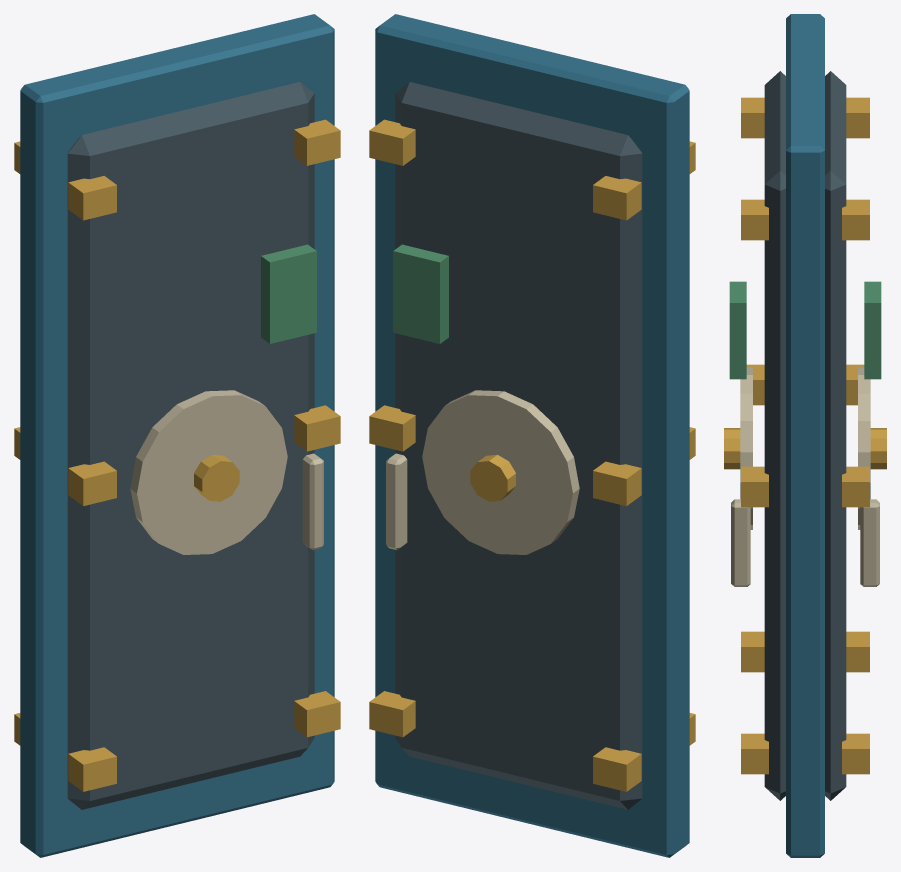
File: door_vault.glb
3 renders of one model, left to right at view 1: azimuth 30°, elevation 25°; view 2: azimuth 150°, elevation 25°; view 3: azimuth 270°, elevation 25°, orthographic. The views are drawn at different scales.
Visible parts, largest first — view 1: door_vault; view 2: door_vault; view 3: door_vault.
Part boxes in pixels (bbox=[...]): door_vault: bbox=[14, 14, 340, 857]; door_vault: bbox=[369, 14, 695, 857]; door_vault: bbox=[724, 14, 886, 857].
Size of the model in its own units: 1.15 by 2.8 by 0.58.
